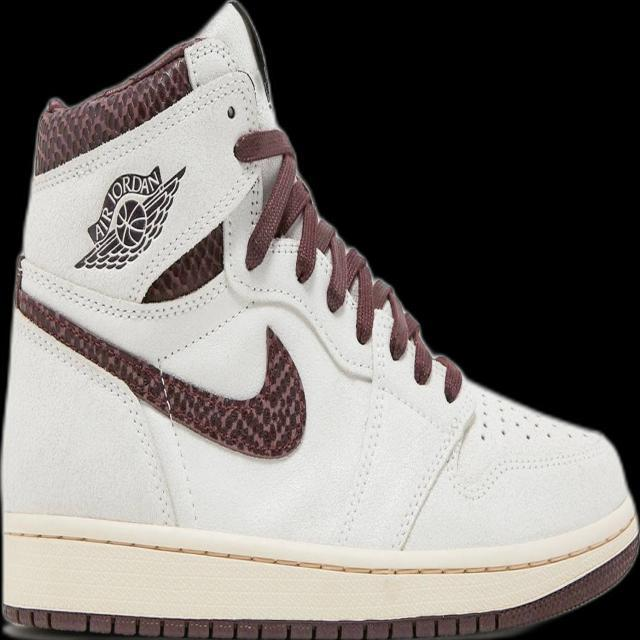J1_InsoleChar: (0, 0, 638, 639)
J1_ShoeLogo: (73, 163, 186, 271)
J1_StitchPattern: (16, 48, 467, 468), (232, 126, 464, 404), (13, 281, 307, 460), (3, 513, 637, 579), (32, 54, 193, 176), (1, 605, 501, 638), (334, 304, 392, 547)
